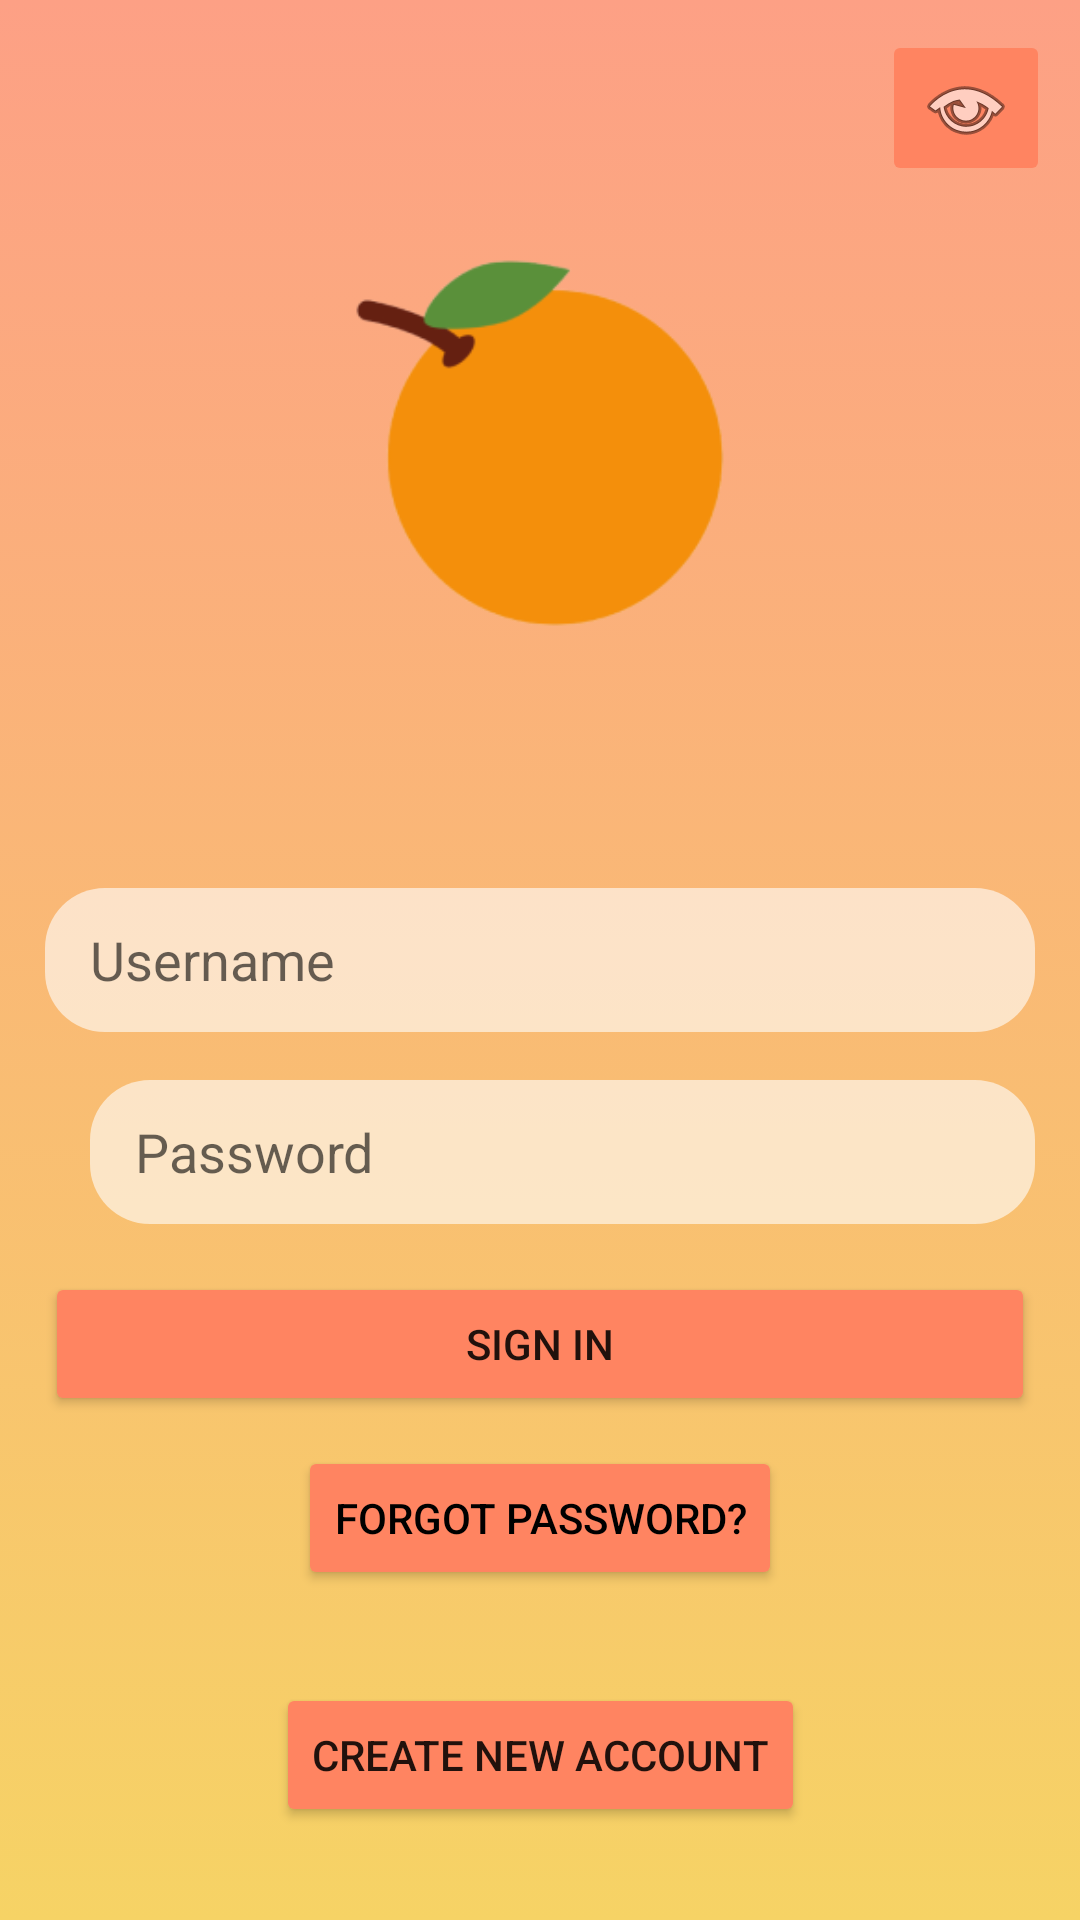

Where icons sit on this 1080px×1920px app screen, as bbox(x1, y1, x2, y2):
view: bbox(894, 48, 1038, 168)
